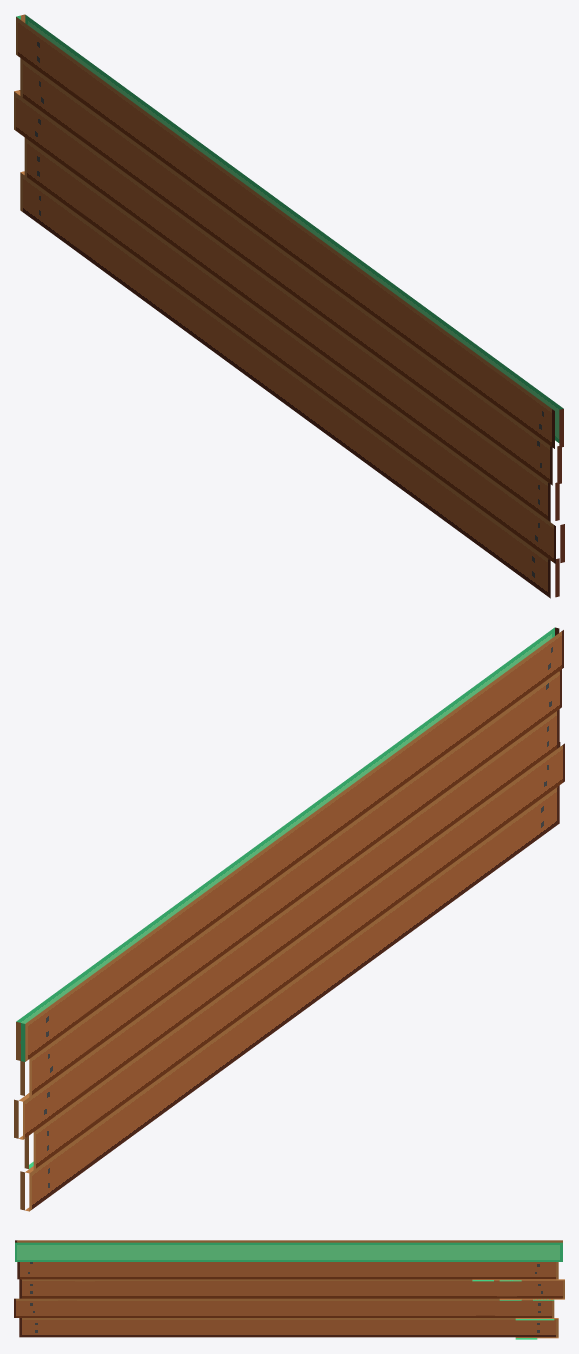
The model's file is Ship-menu.gltf.
3 renders of one model, top to bottom at view 1: azimuth 30°, elevation 25°; view 2: azimuth 150°, elevation 25°; view 3: azimuth 270°, elevation 25°, orthographic. The views are drawn at different scales.
Visible parts, largest first — view 1: cube (×5); view 2: cube (×5); view 3: cube (×5).
Boxes of the visible parts, left/top/right/bottom form: cube (×5): left=14, top=14, right=564, bottom=598; cube (×5): left=14, top=627, right=564, bottom=1211; cube (×5): left=14, top=1240, right=564, bottom=1339.
Size of the model in its own units: 0.0156 by 0.3125 by 1.61.
1 material, 1 textured.
